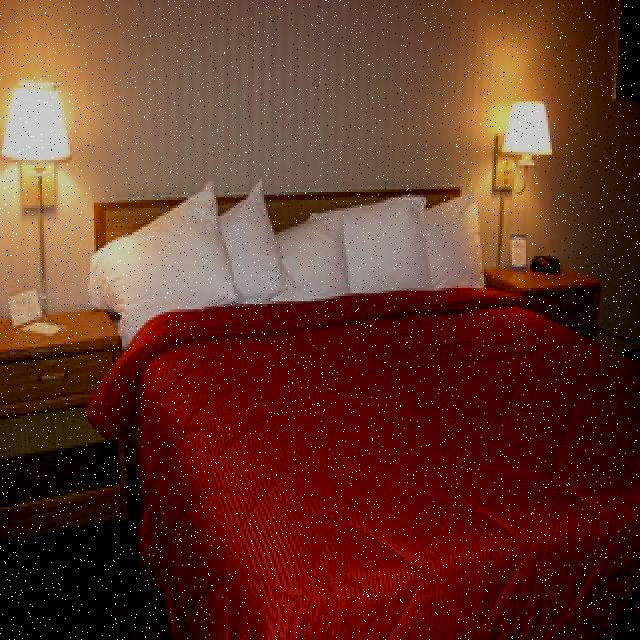bed: (106, 183, 640, 640)
